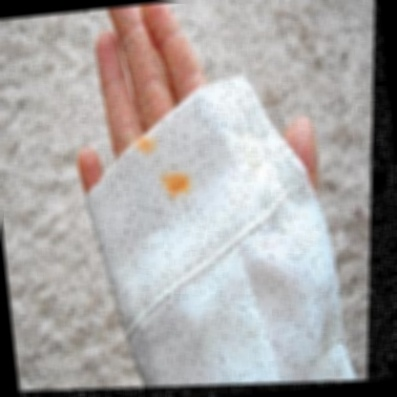kimchi: (163, 172, 190, 199), (132, 141, 156, 163)
